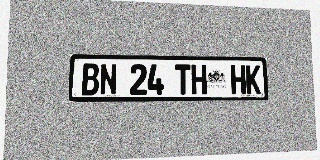2: (130, 64, 147, 95)
4: (147, 64, 164, 95)
B: (81, 63, 99, 95)
H: (191, 64, 207, 94), (231, 65, 246, 94)
K: (246, 65, 261, 94)
N: (100, 63, 117, 95)
T: (175, 64, 191, 95)
